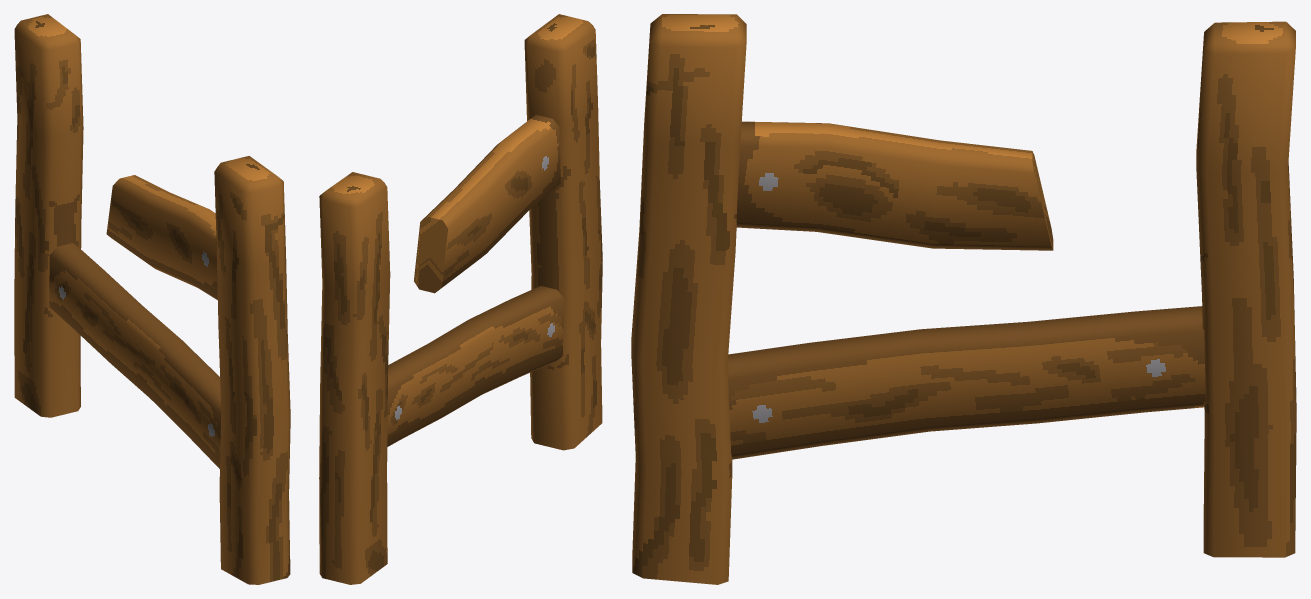
Rendered from fence1.glb.
3 views of the same model, side by side, from view 1: azimuth 30°, elevation 25°; view 2: azimuth 150°, elevation 25°; view 3: azimuth 270°, elevation 25° (orthographic). The views are drawn at different scales.
Parts seen in each view (by area): view 1: fence1; view 2: fence1; view 3: fence1.
Part boxes in pixels (box(x1,y1,x2,y2)): fence1: box(14, 14, 290, 584); fence1: box(319, 14, 602, 584); fence1: box(631, 14, 1296, 584).
Size of the model in its own units: 0.2462 by 2.24 by 2.46.
Materials: 1 (1 with a texture image).
